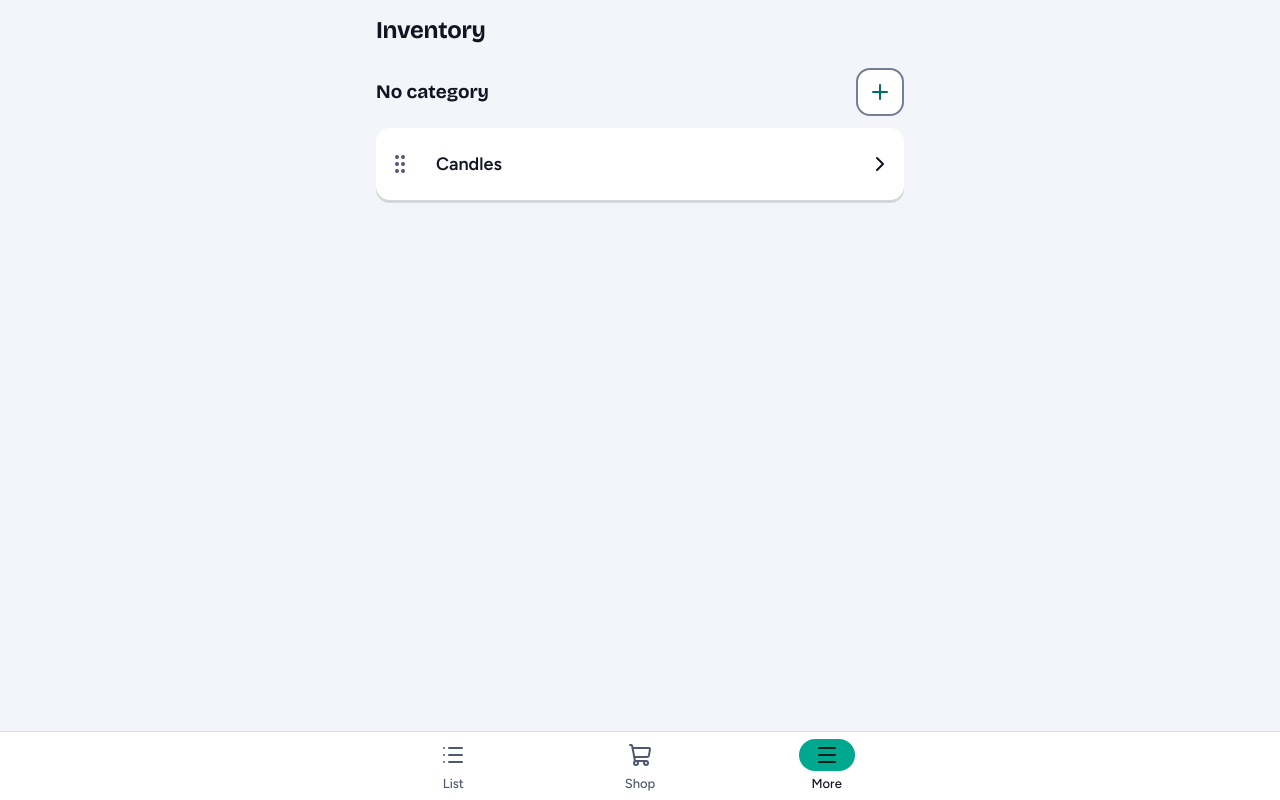
A new custom category on Inventory › offers an icon-only Add Category button beside No category and opens the category form
Expected: the icon in the row of "No category" is shown, [868,80,892,104]
Click the button named "Add Category". click: (880, 92)
box: [856,68,904,116]
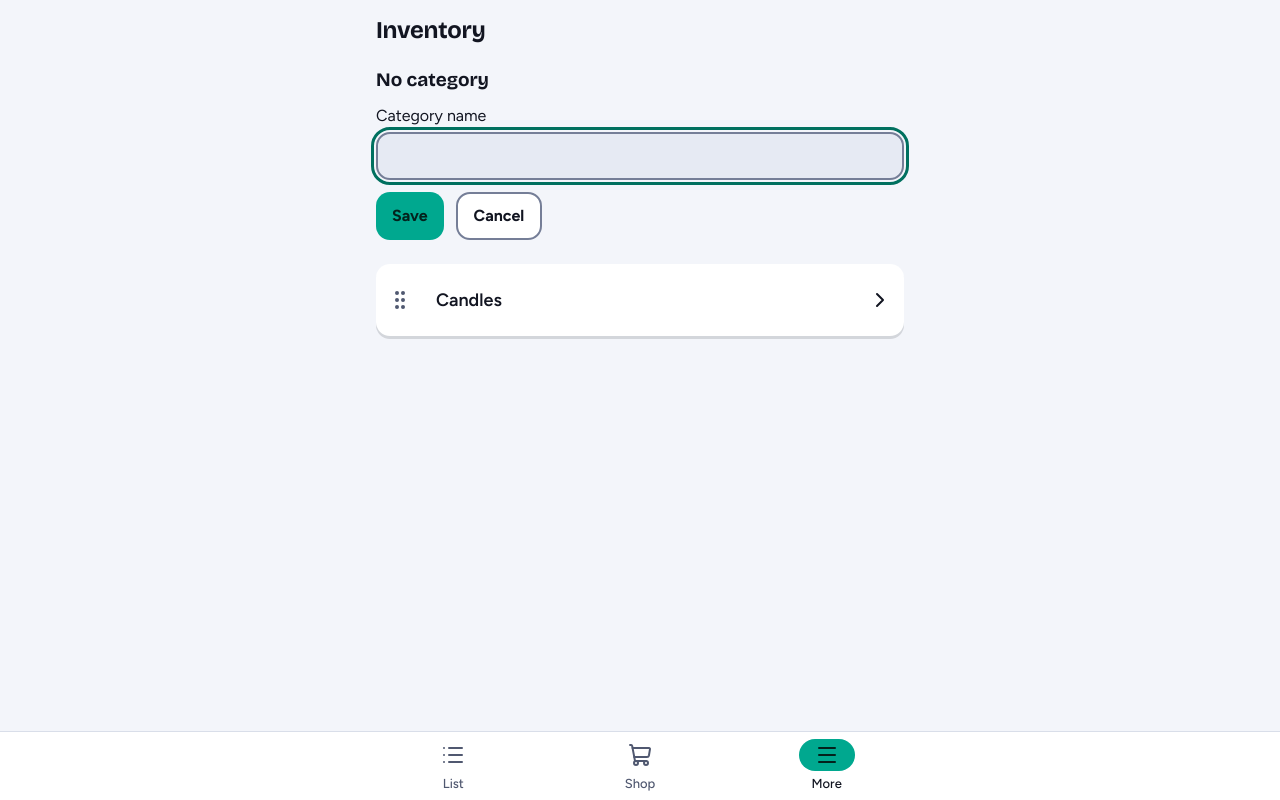
Click the button "Cancel". click: (499, 216)
box: [456,192,542,240]
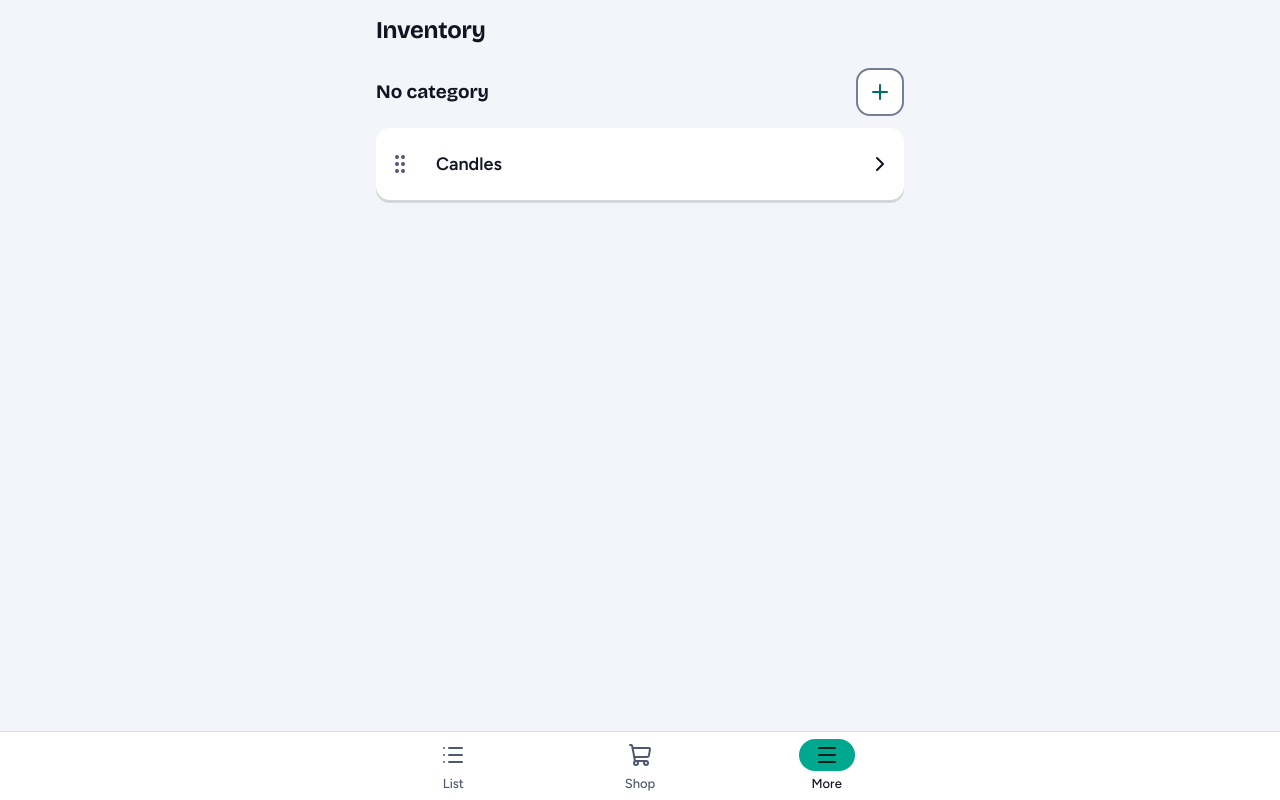
Result: the button named "Add Category" is shown at [856,68,904,116]
